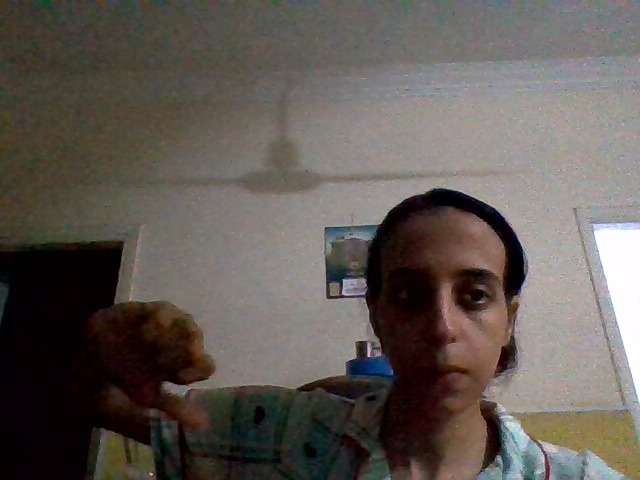ThumbsDown: (79, 299, 216, 427)
